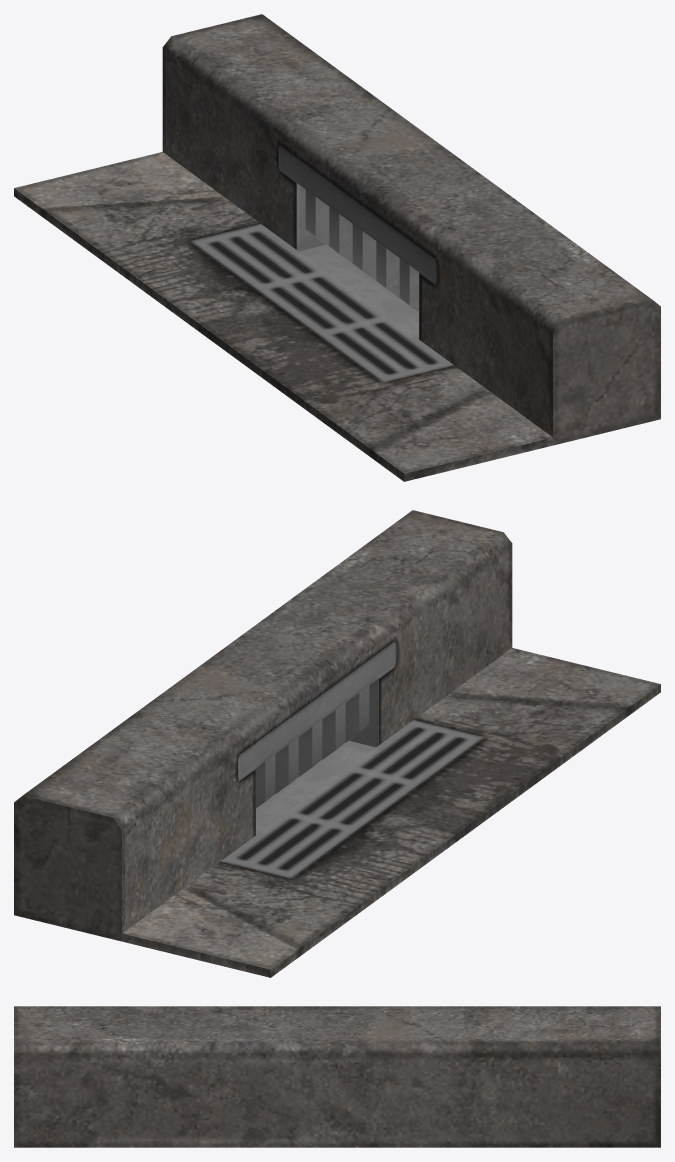
Rendered from CP_Curbstone_Stormdrain_02.fbx.
The picture shows the model from 3 angles, top to bottom: view 1: azimuth 30°, elevation 25°; view 2: azimuth 150°, elevation 25°; view 3: azimuth 270°, elevation 25°; orthographic projection. The views are drawn at different scales.
Parts seen in each view (by area): view 1: CP_Curbstone_Stormdrain_02; view 2: CP_Curbstone_Stormdrain_02; view 3: CP_Curbstone_Stormdrain_02.
Part boxes in pixels (box(x1,y1,x2,y2)): CP_Curbstone_Stormdrain_02: box(14, 14, 660, 481); CP_Curbstone_Stormdrain_02: box(14, 510, 660, 977); CP_Curbstone_Stormdrain_02: box(14, 1006, 660, 1147).
Size of the model in its own units: 38 by 17.2 by 100.
